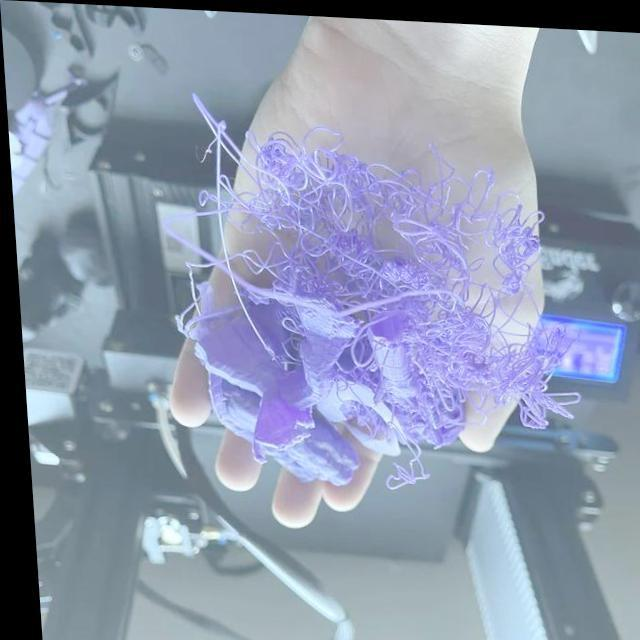spaghetti: (246, 126, 377, 225), (280, 220, 387, 278), (428, 323, 492, 415), (497, 335, 560, 425), (487, 205, 547, 287), (395, 195, 466, 261), (382, 146, 457, 203), (379, 265, 457, 313), (192, 100, 244, 170), (379, 428, 425, 488)
